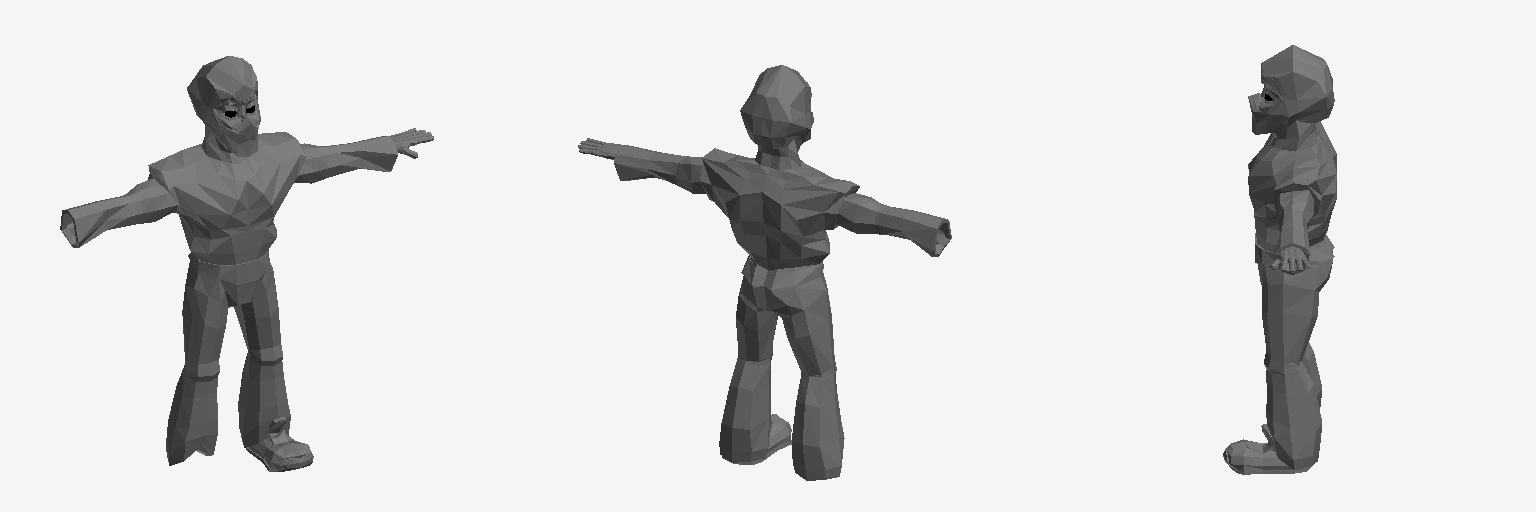
Rendered from Ninja.obj.
3 views of the same model, side by side, from view 1: azimuth 30°, elevation 25°; view 2: azimuth 150°, elevation 25°; view 3: azimuth 270°, elevation 25° (orthographic).
Parts seen in each view (by area): view 1: group1 polySurface5 polySurface8, group1 polySurface7 polySurface5, group1 polySurface4, polySurface6 group1, group1 polySurface2, pCylinder8; view 2: group1 polySurface5 polySurface8, group1 polySurface7 polySurface5, polySurface6 group1, group1 polySurface4, pCylinder8; view 3: group1 polySurface5 polySurface8, group1 polySurface7 polySurface5, group1 polySurface4, polySurface6 group1, pCylinder8.
Part boxes in pixels (left/top/right/bottom): group1 polySurface5 polySurface8: left=60, top=56, right=397, bottom=264; group1 polySurface7 polySurface5: left=166, top=261, right=290, bottom=465; group1 polySurface4: left=249, top=417, right=313, bottom=468; polySurface6 group1: left=188, top=250, right=269, bottom=284; group1 polySurface2: left=216, top=93, right=259, bottom=130; pCylinder8: left=390, top=128, right=433, bottom=158; group1 polySurface5 polySurface8: left=614, top=65, right=951, bottom=271; group1 polySurface7 polySurface5: left=719, top=273, right=844, bottom=480; polySurface6 group1: left=741, top=255, right=823, bottom=289; group1 polySurface4: left=752, top=414, right=791, bottom=461; pCylinder8: left=578, top=138, right=620, bottom=159; group1 polySurface5 polySurface8: left=1248, top=45, right=1336, bottom=274; group1 polySurface7 polySurface5: left=1257, top=250, right=1332, bottom=469; group1 polySurface4: left=1226, top=424, right=1304, bottom=471; polySurface6 group1: left=1255, top=233, right=1334, bottom=266; pCylinder8: left=1270, top=246, right=1310, bottom=272.
Bounding box in the file's own units: 13.59 × 14.4 × 3.7.